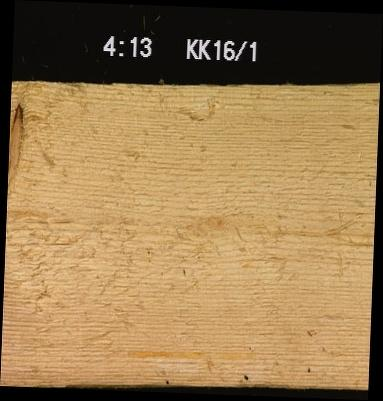split: (41, 240, 71, 246)
